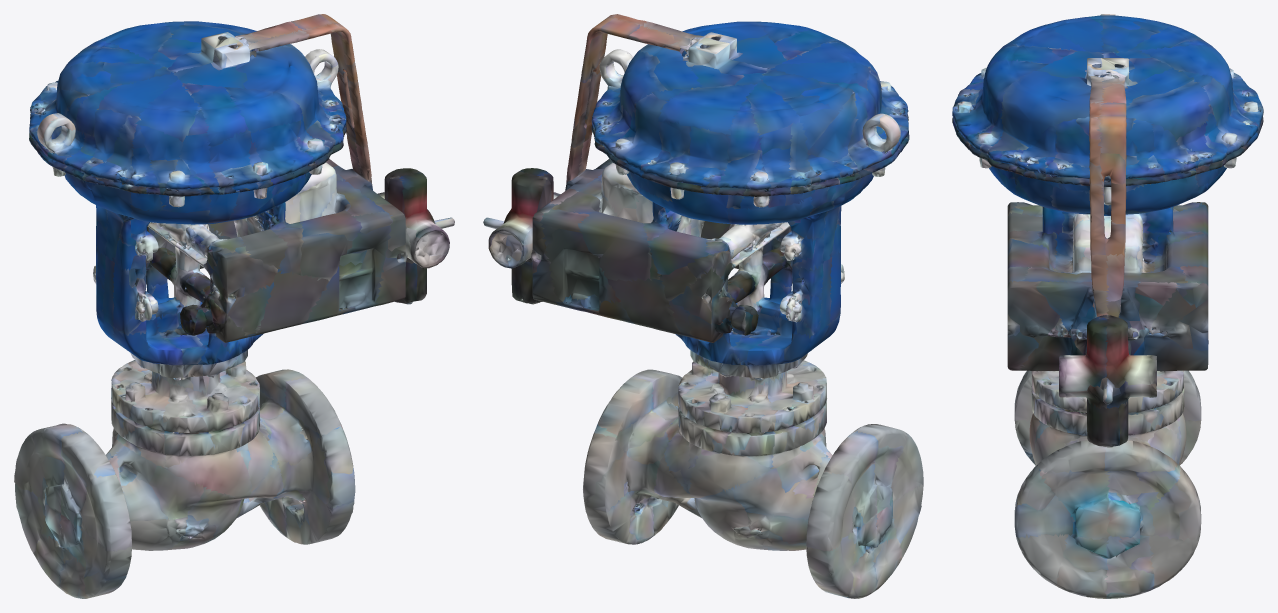
Rendered from valve2_low.glb.
The picture shows the model from 3 angles, left to right: view 1: azimuth 30°, elevation 25°; view 2: azimuth 150°, elevation 25°; view 3: azimuth 270°, elevation 25°; orthographic projection. The views are drawn at different scales.
Bounding box in the file's own units: 1.61 × 1.9 × 1.08.
1 material, 1 textured.
